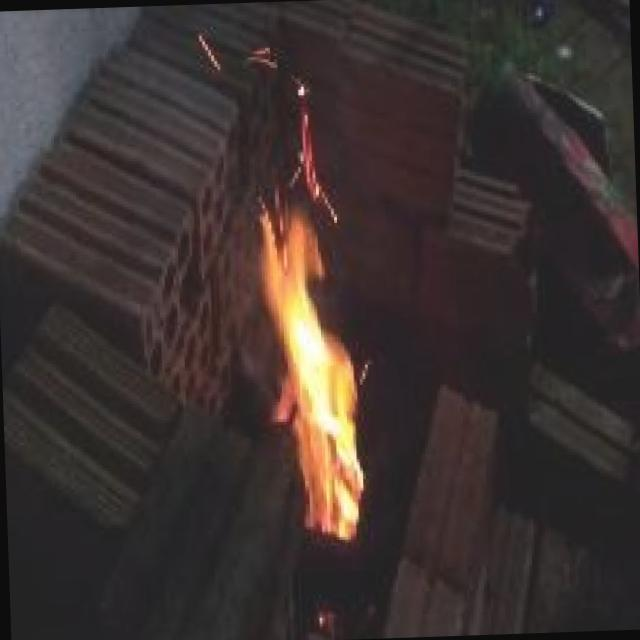fire: (216, 93, 405, 588)
